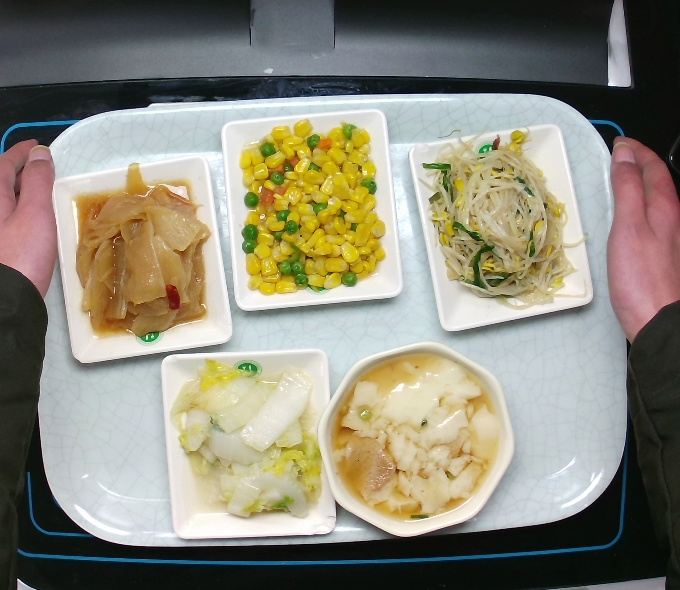wcq-DaBaiCai: (168, 357, 327, 521)
wcq-DongGua: (72, 160, 216, 340)
wcq-DouYa: (413, 121, 590, 313)
wcq-ShuiZhengDan: (328, 349, 505, 525)
wcq-TianMiTianDou: (235, 116, 387, 298)
